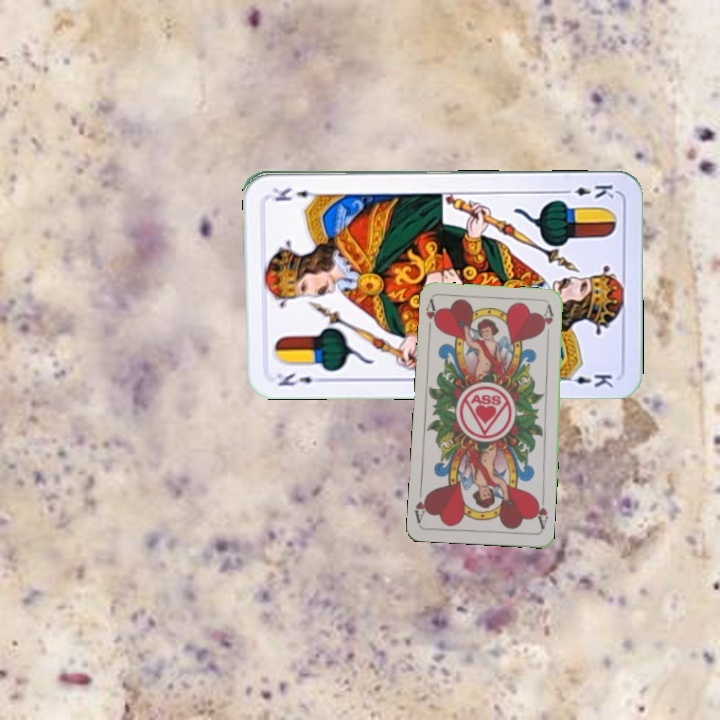EK: (557, 180, 616, 201), (268, 369, 327, 389)
HA: (531, 491, 551, 532), (422, 296, 441, 337)
